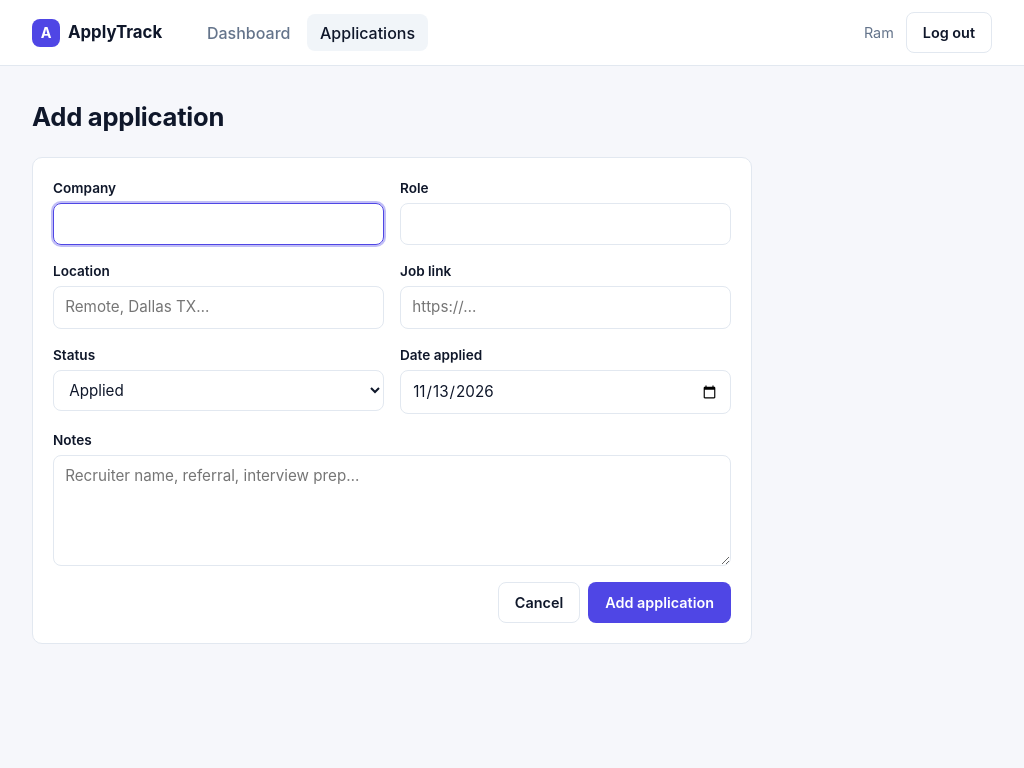
Test: application form › does not call the API when the form is invalid
Click the button "Add application". click: (660, 603)
box: [588,582,731,623]
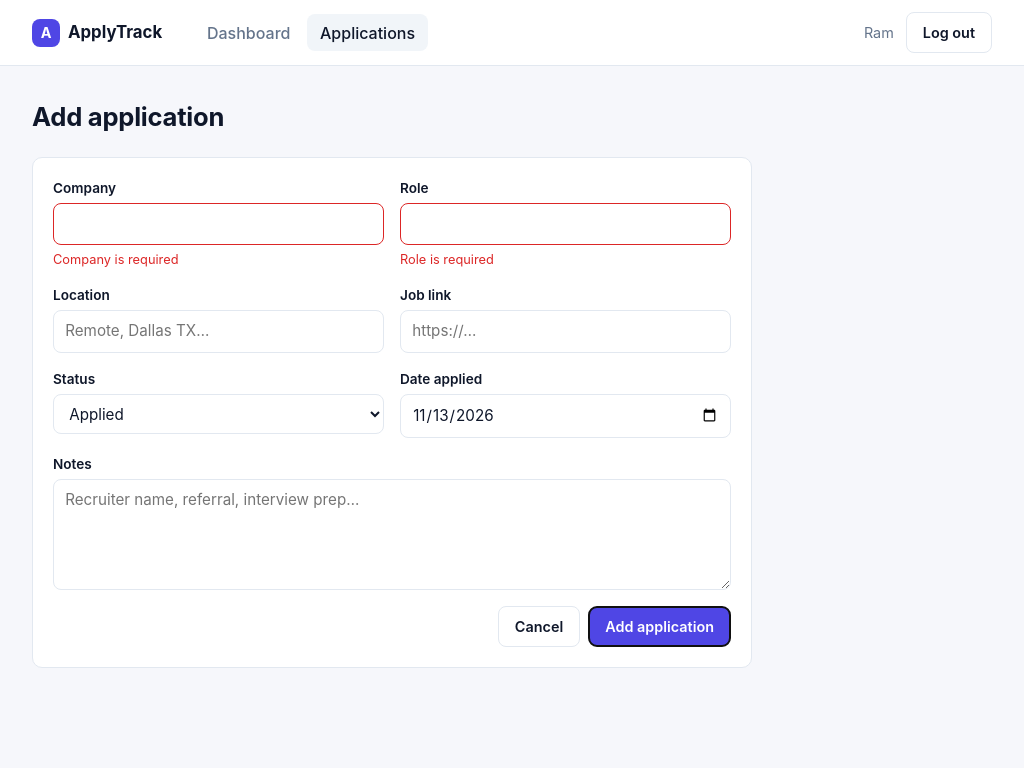
Now the text "Company is required" is shown, box [53,252,178,267]
